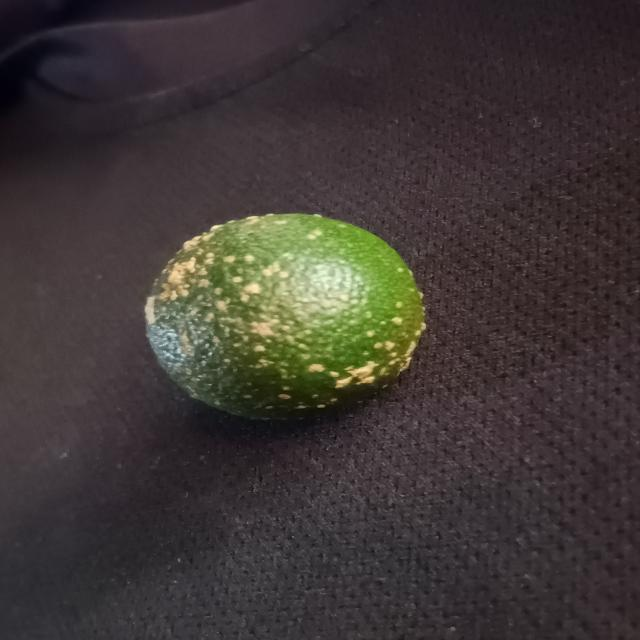scab: (138, 216, 430, 430)
